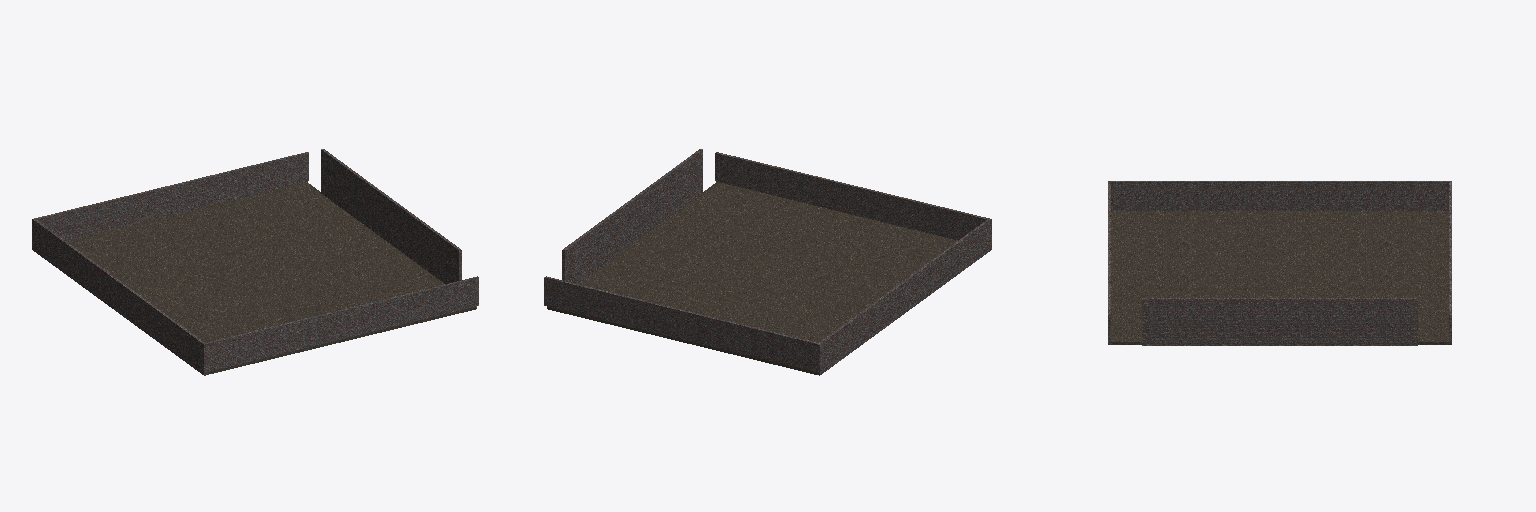
3 renders of one model, left to right at view 1: azimuth 30°, elevation 25°; view 2: azimuth 150°, elevation 25°; view 3: azimuth 270°, elevation 25°, orthographic.
Visible parts, largest first — view 1: graveyard; view 2: graveyard; view 3: graveyard.
Part boxes in pixels (x1,y1,x2,y2): graveyard: (32,149,478,375); graveyard: (544,149,991,375); graveyard: (1108,181,1451,345).
Bounding box in the file's own units: 102 × 16.51 × 110.
2 materials, 2 textured.